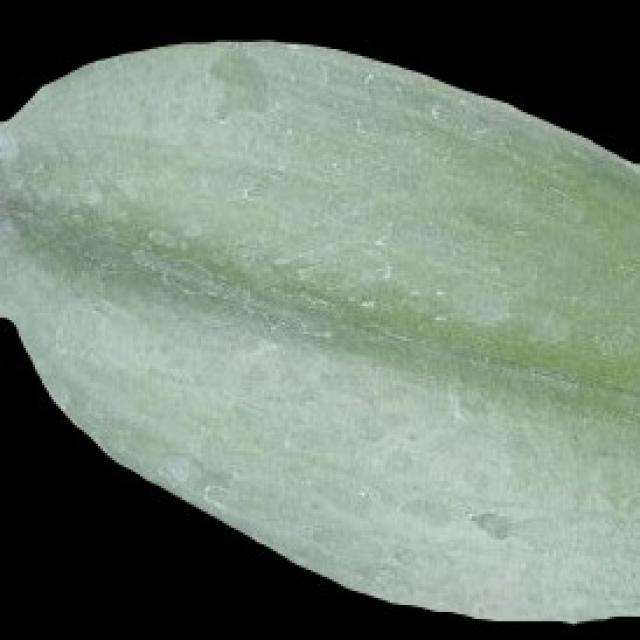mite: (199, 479, 227, 507), (624, 488, 638, 533)
spots: (0, 33, 638, 624)
